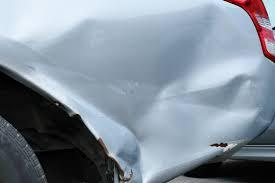dent: (28, 2, 269, 182)
